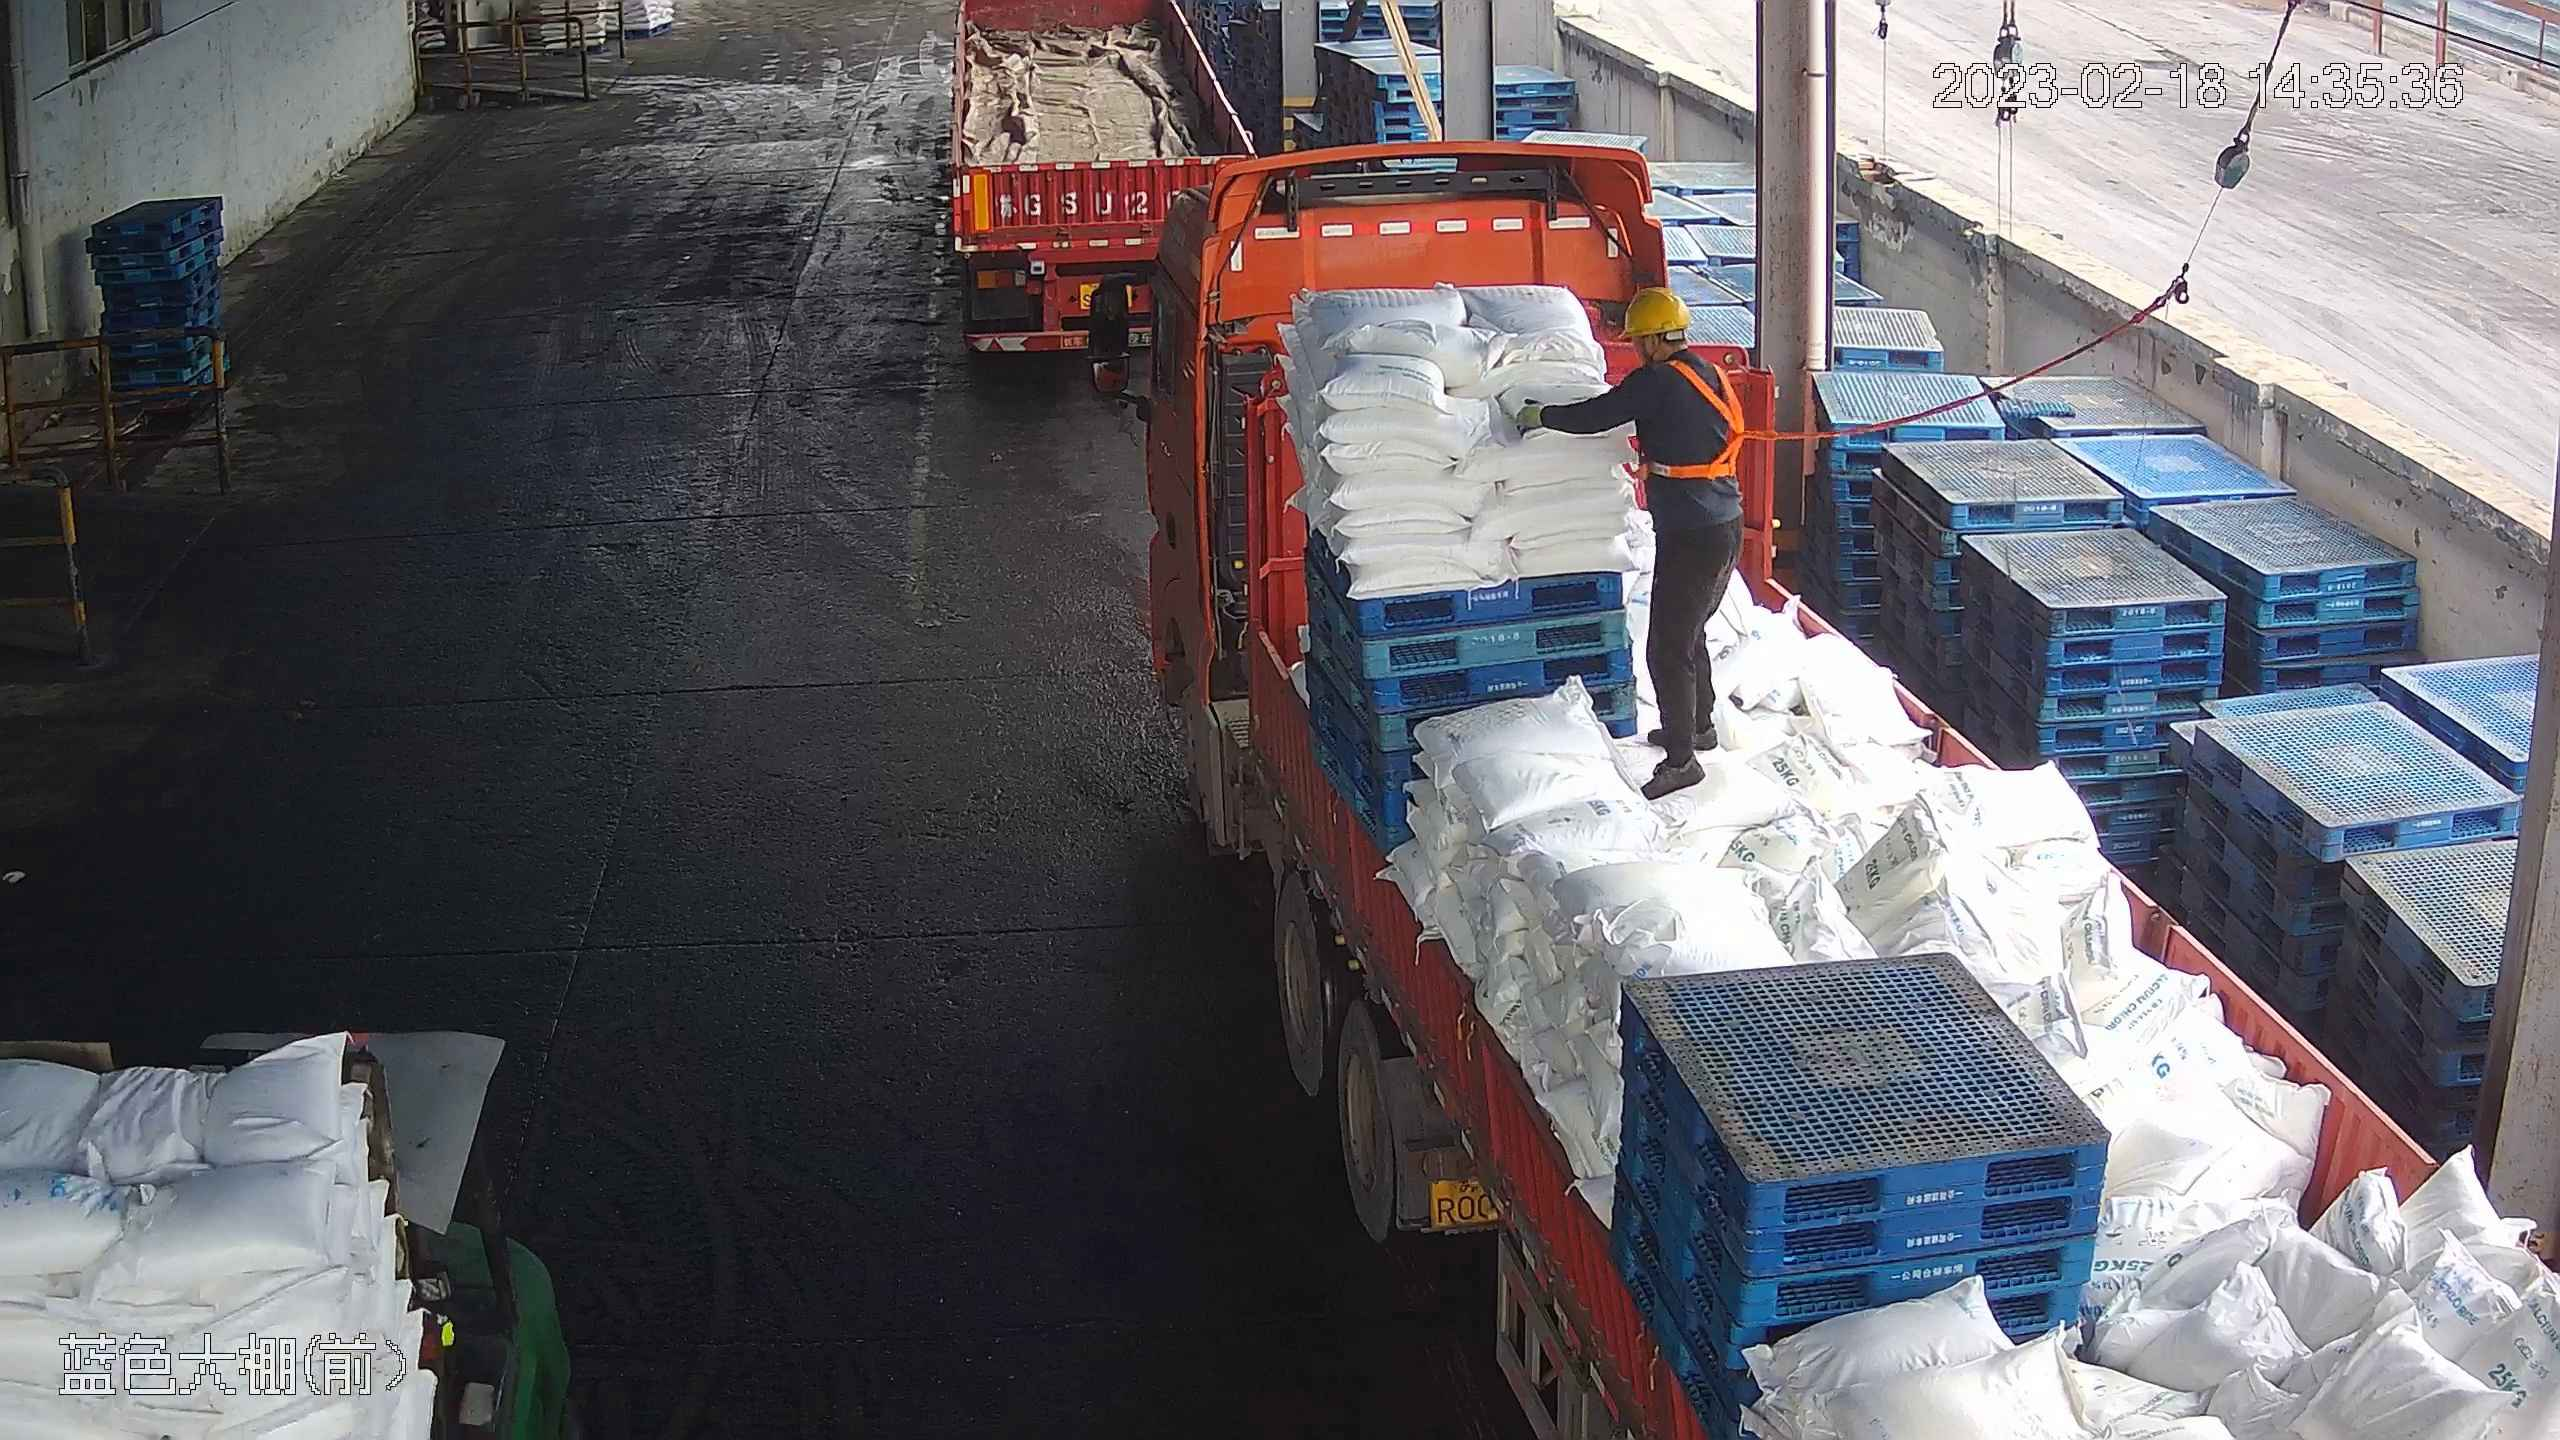belt: (1642, 350, 1766, 494)
head: (1581, 291, 1739, 462)
helmet: (1617, 293, 1691, 344)
people: (1513, 289, 1745, 801)
truck: (1073, 123, 2560, 1440), (939, 1, 1279, 374)
